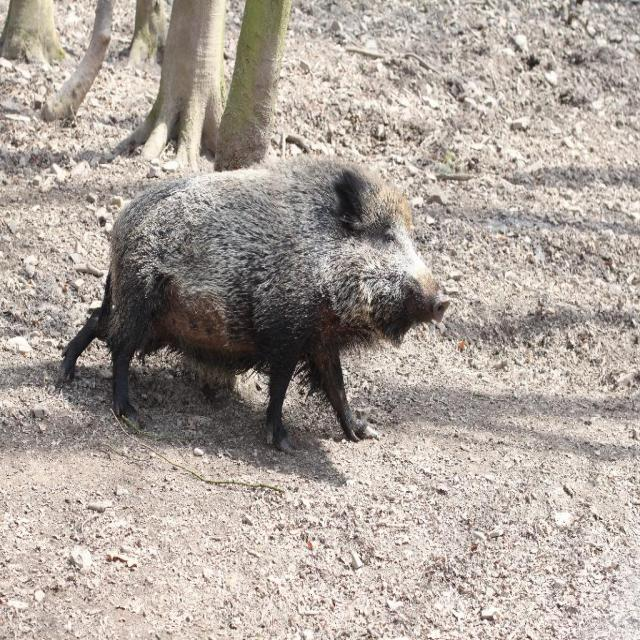Pig: (61, 153, 452, 455)
